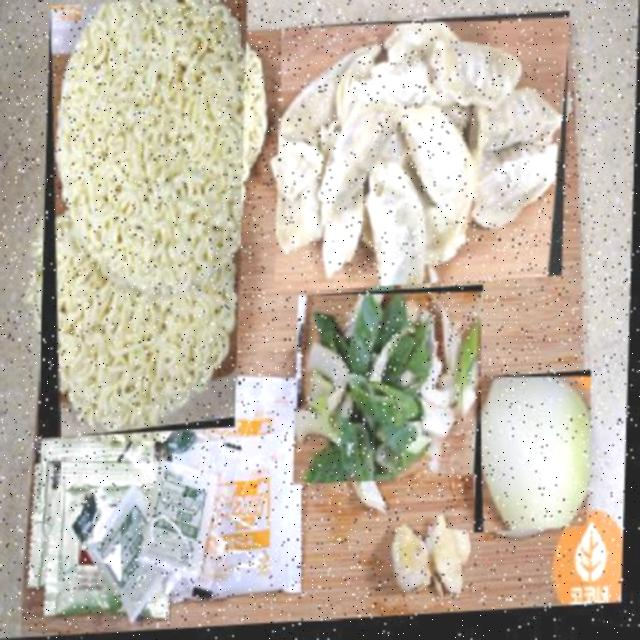Noodles: (40, 0, 249, 442)
Onion: (478, 378, 594, 540)
Onion Leaves: (296, 291, 487, 491)
